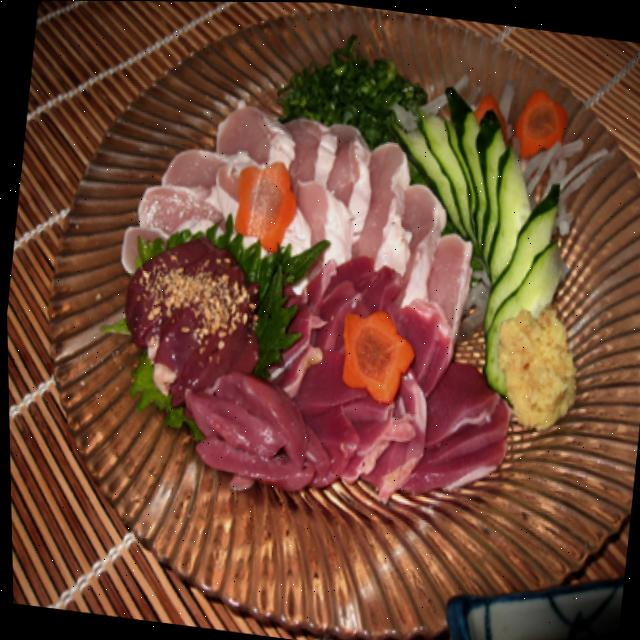刺身生食: (62, 14, 587, 567)
